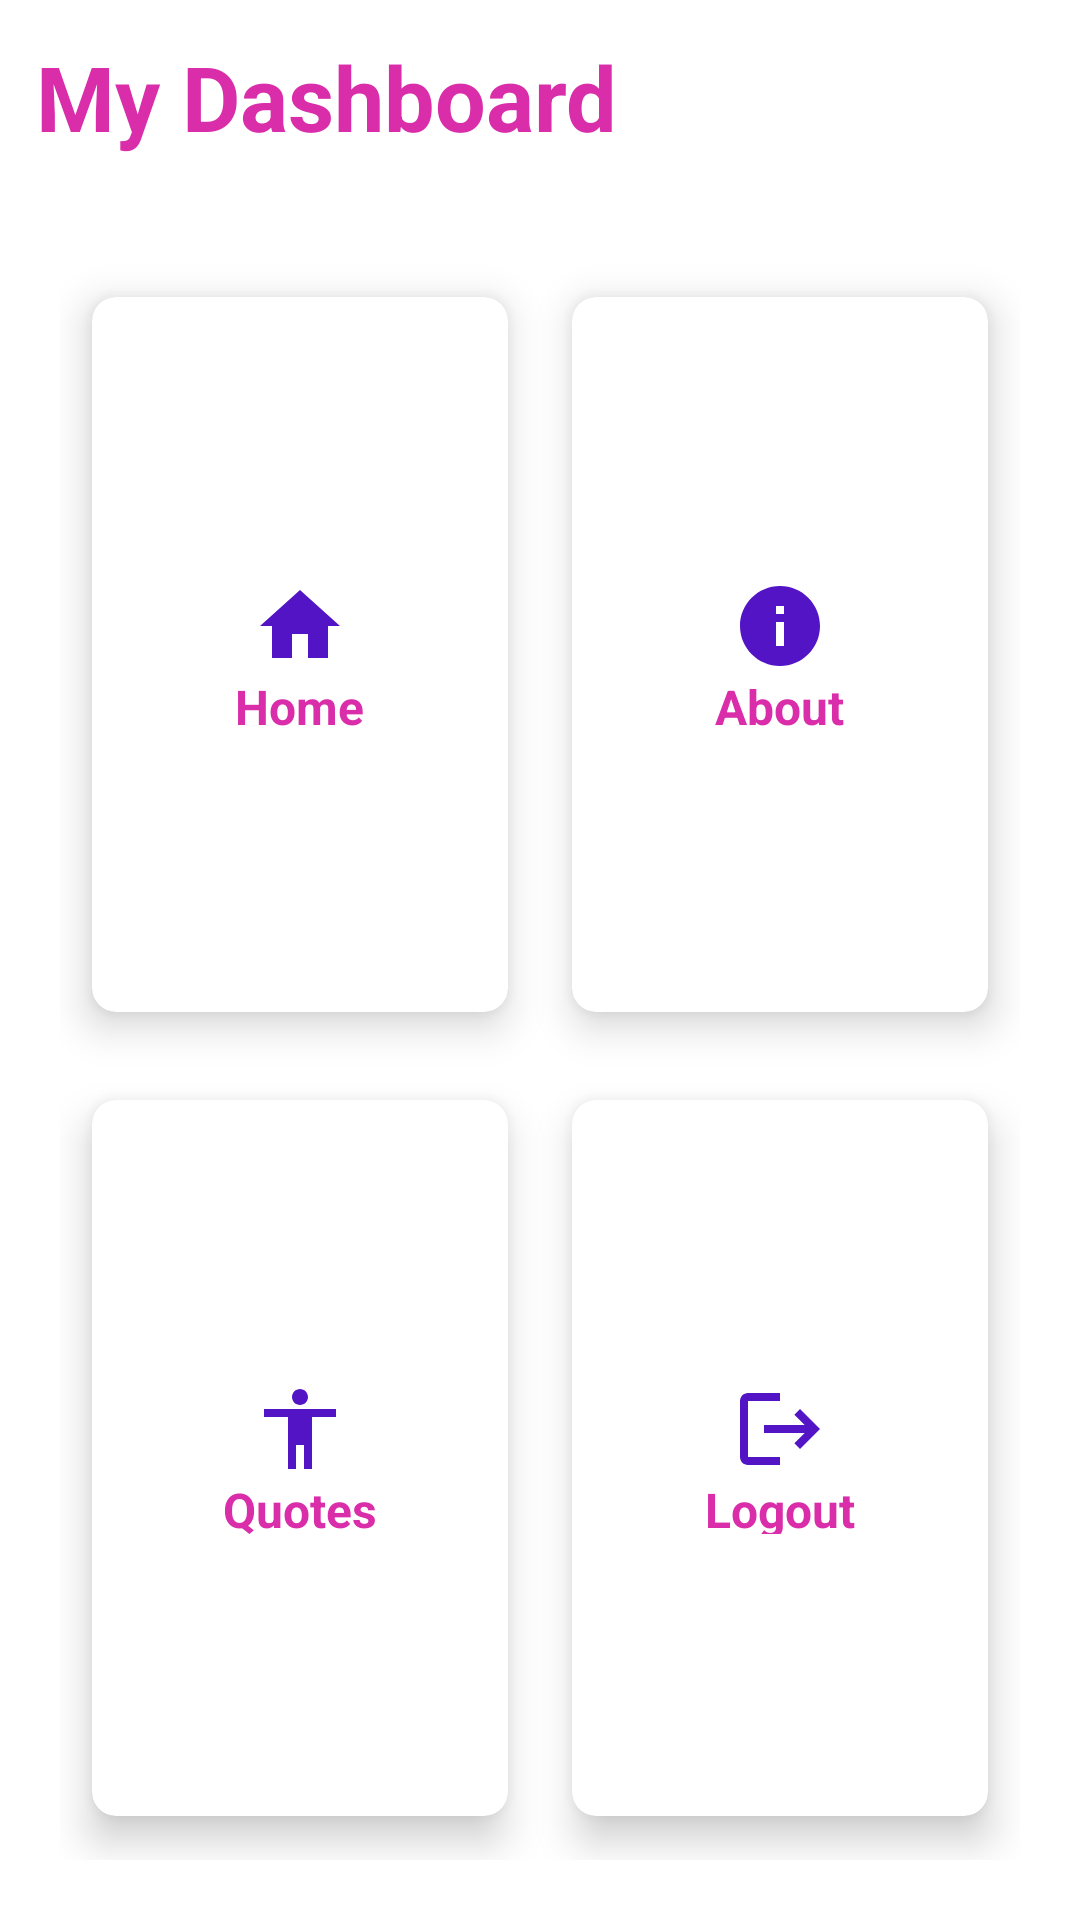

Point at icon controls on the screen. Image size 1080px×1920px, points as [x,y].
info: [780,626]
